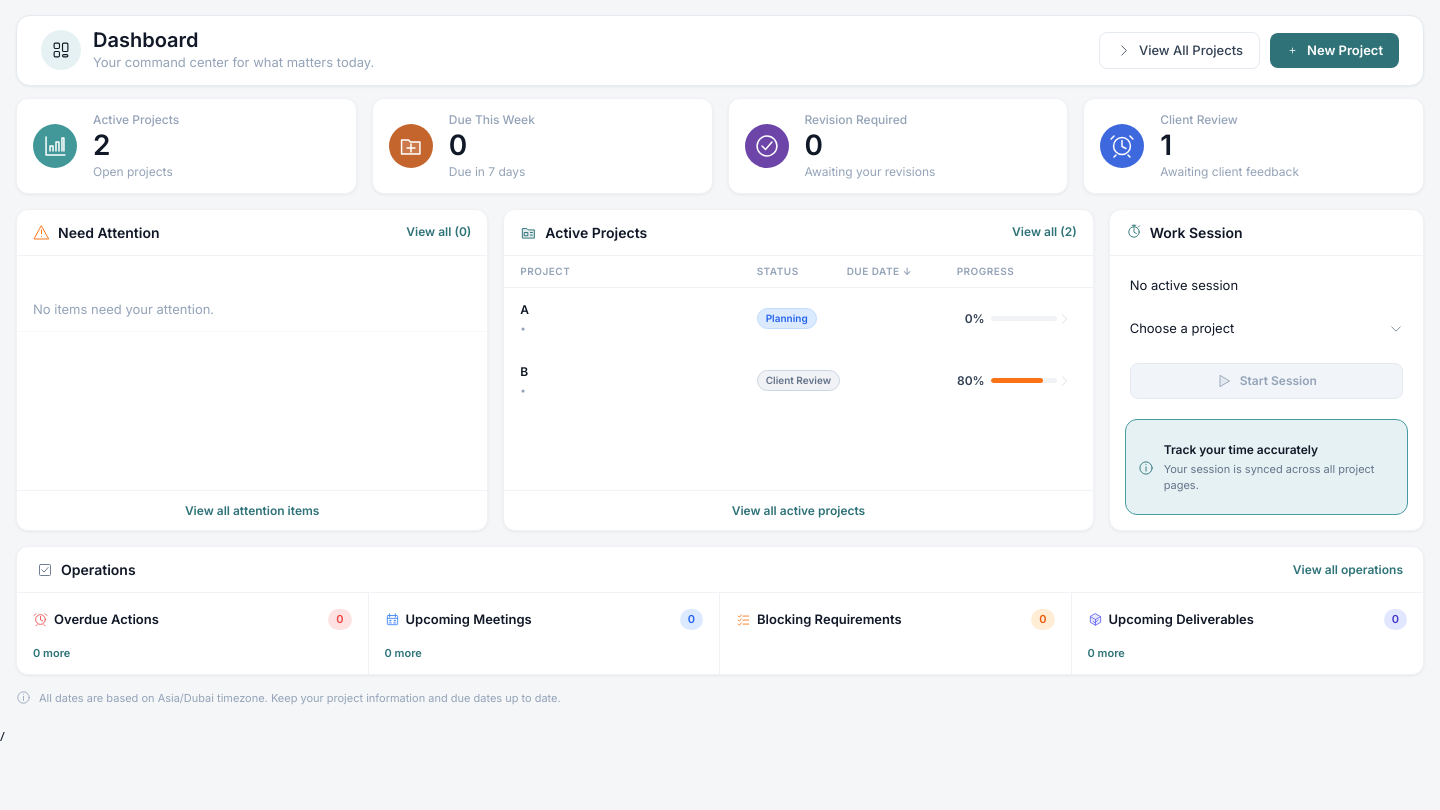
Test case: filters the All Operations float by group
Click the button "View all operations": (1348, 570) 1293,560 -> 1403,578
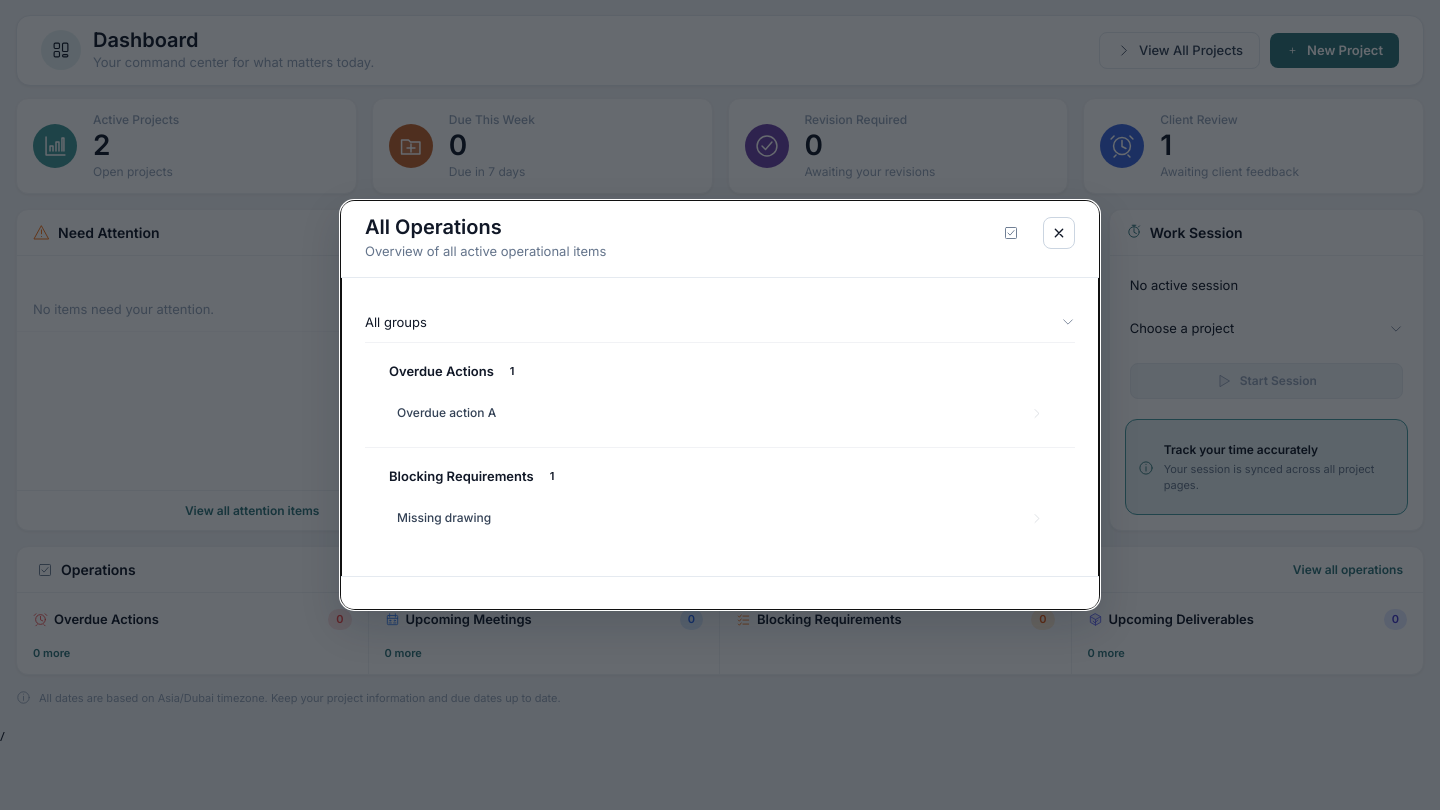
expect the text "Overdue action A" is shown: met, box 397,403 -> 496,423
Click the button with aria-label "Operation group": (396, 322) 365,302 -> 1075,342
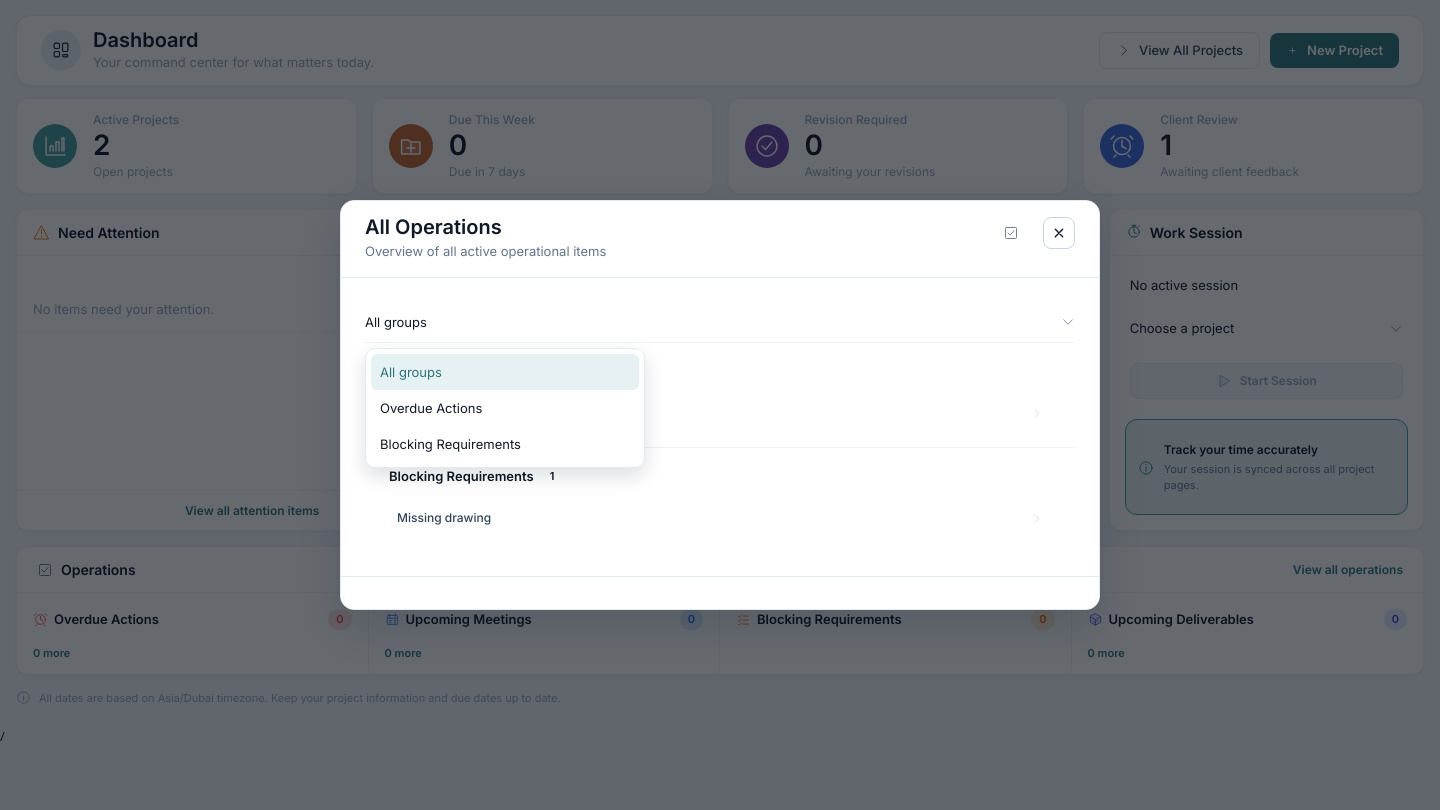
Click the option "Blocking Requirements": (505, 444) 371,426 -> 639,462
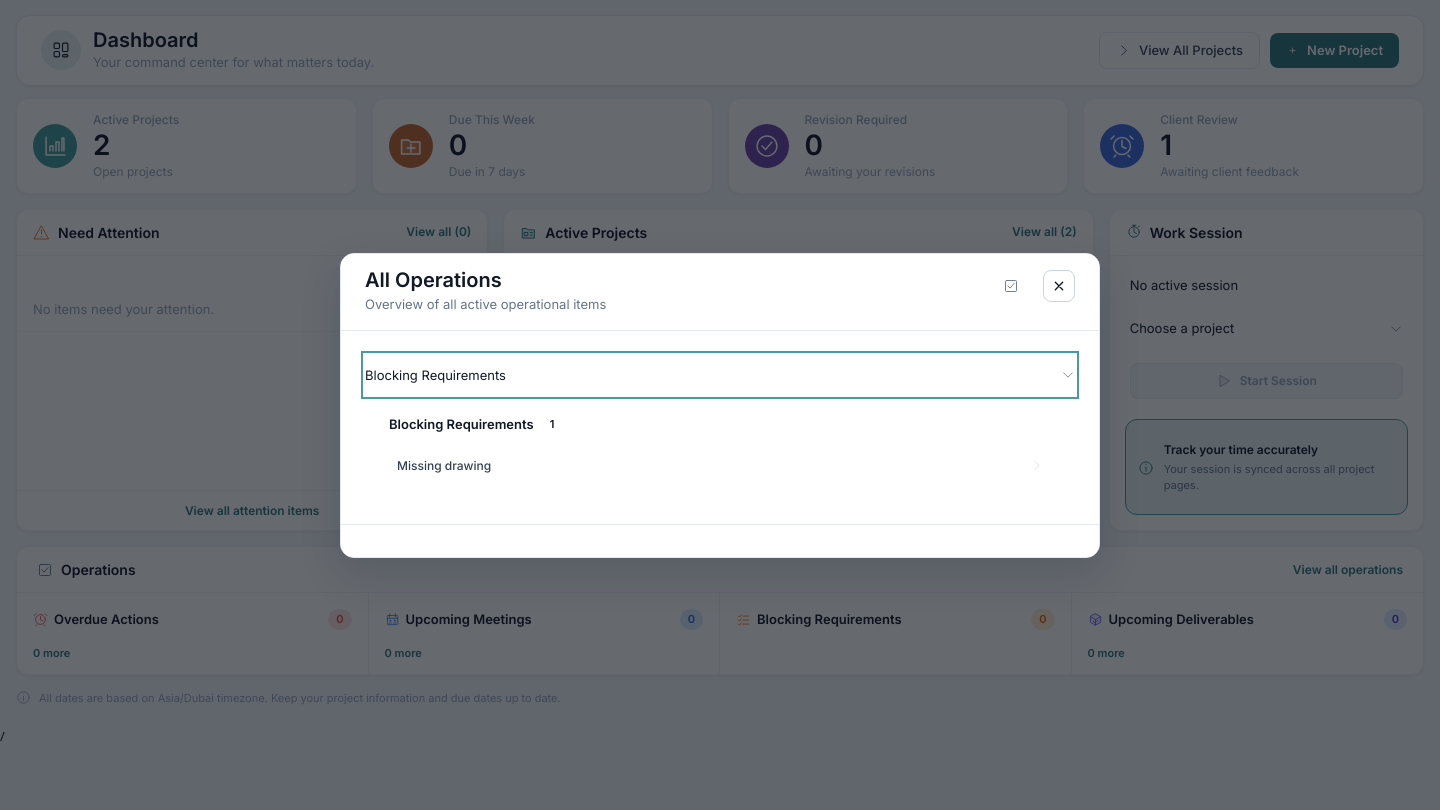
expect the text "Missing drawing" is shown: met, box 397,456 -> 491,476
expect the button "Overdue action A" is gone: met
